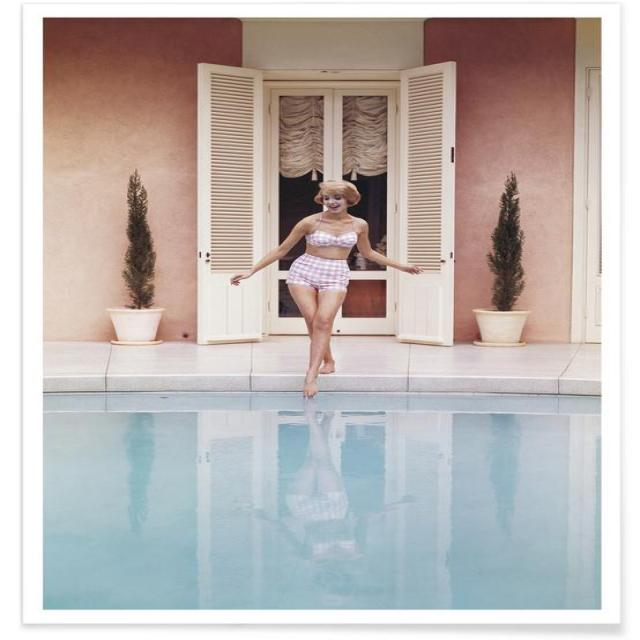adult: (226, 179, 422, 398)
